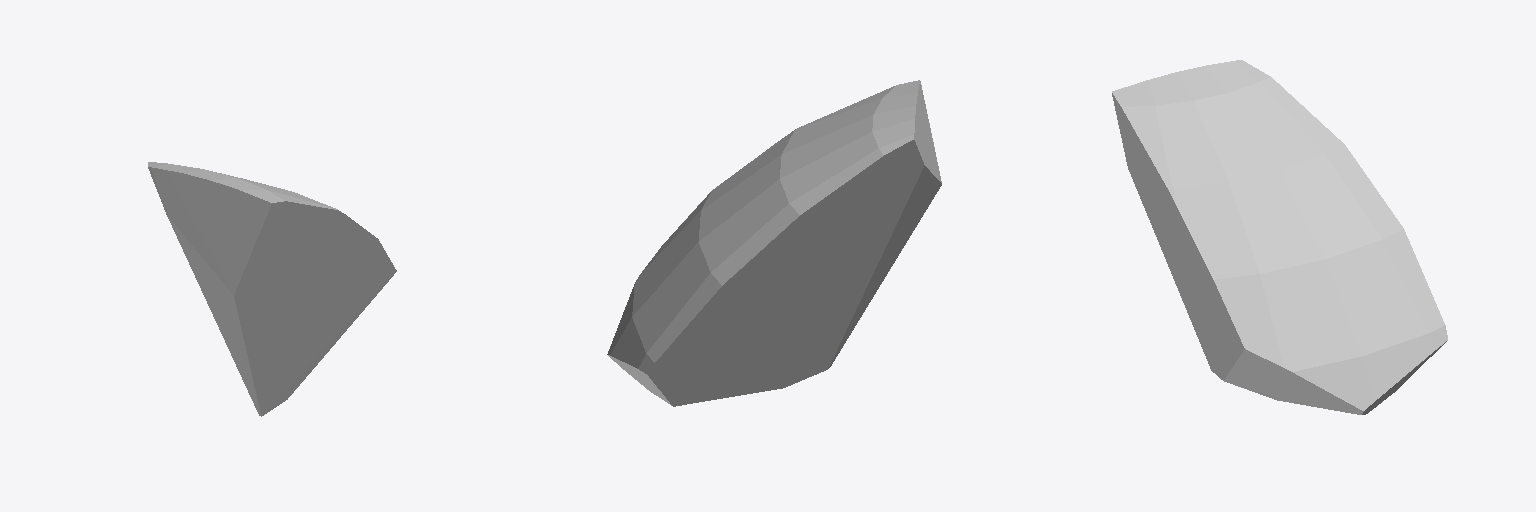
The model's file is Sphere_Cell_Fracture2.obj.
The picture shows the model from 3 angles: view 1: azimuth 30°, elevation 25°; view 2: azimuth 150°, elevation 25°; view 3: azimuth 270°, elevation 25°; orthographic projection.
Bounding box in the file's own units: 0.5479 × 0.5627 × 0.6287.